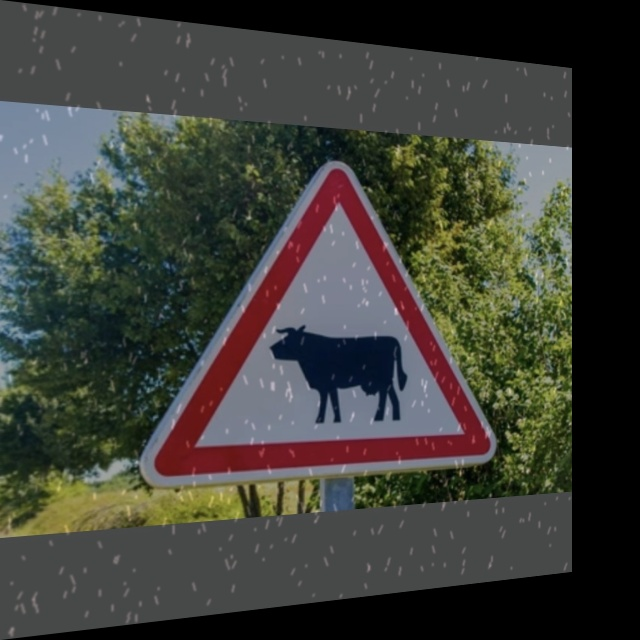Cattle: (160, 159, 505, 487)
